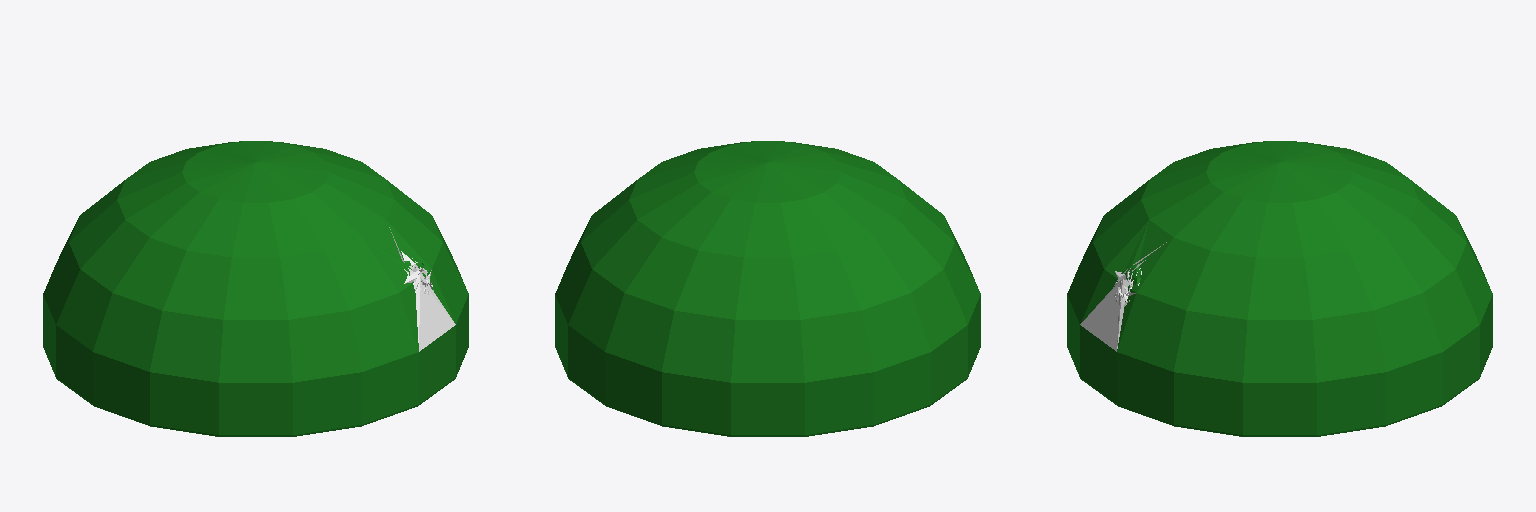
Rendered from Android_LowPoly.obj.
3 renders of one model, left to right at view 1: azimuth 30°, elevation 25°; view 2: azimuth 150°, elevation 25°; view 3: azimuth 270°, elevation 25°, orthographic.
Parts seen in each view (by area): view 1: Head, ChamferCyl001; view 2: Head; view 3: Head, ChamferCyl001.
Boxes of the visible parts, x1=… form: Head: x1=43, y1=141, x2=468, y2=436; ChamferCyl001: x1=389, y1=227, x2=455, y2=351; Head: x1=555, y1=141, x2=980, y2=436; Head: x1=1067, y1=141, x2=1492, y2=436; ChamferCyl001: x1=1080, y1=242, x2=1166, y2=351.
Size of the model in its own units: 38.73 by 19.08 by 39.33.